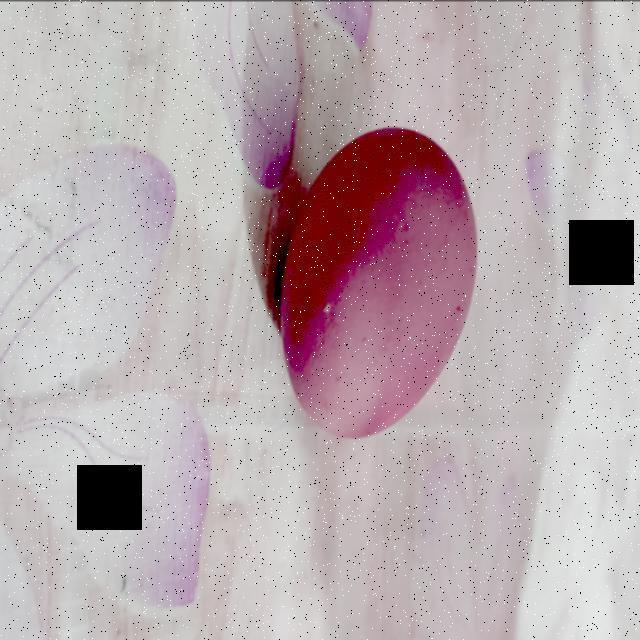egg: (274, 117, 480, 445)
